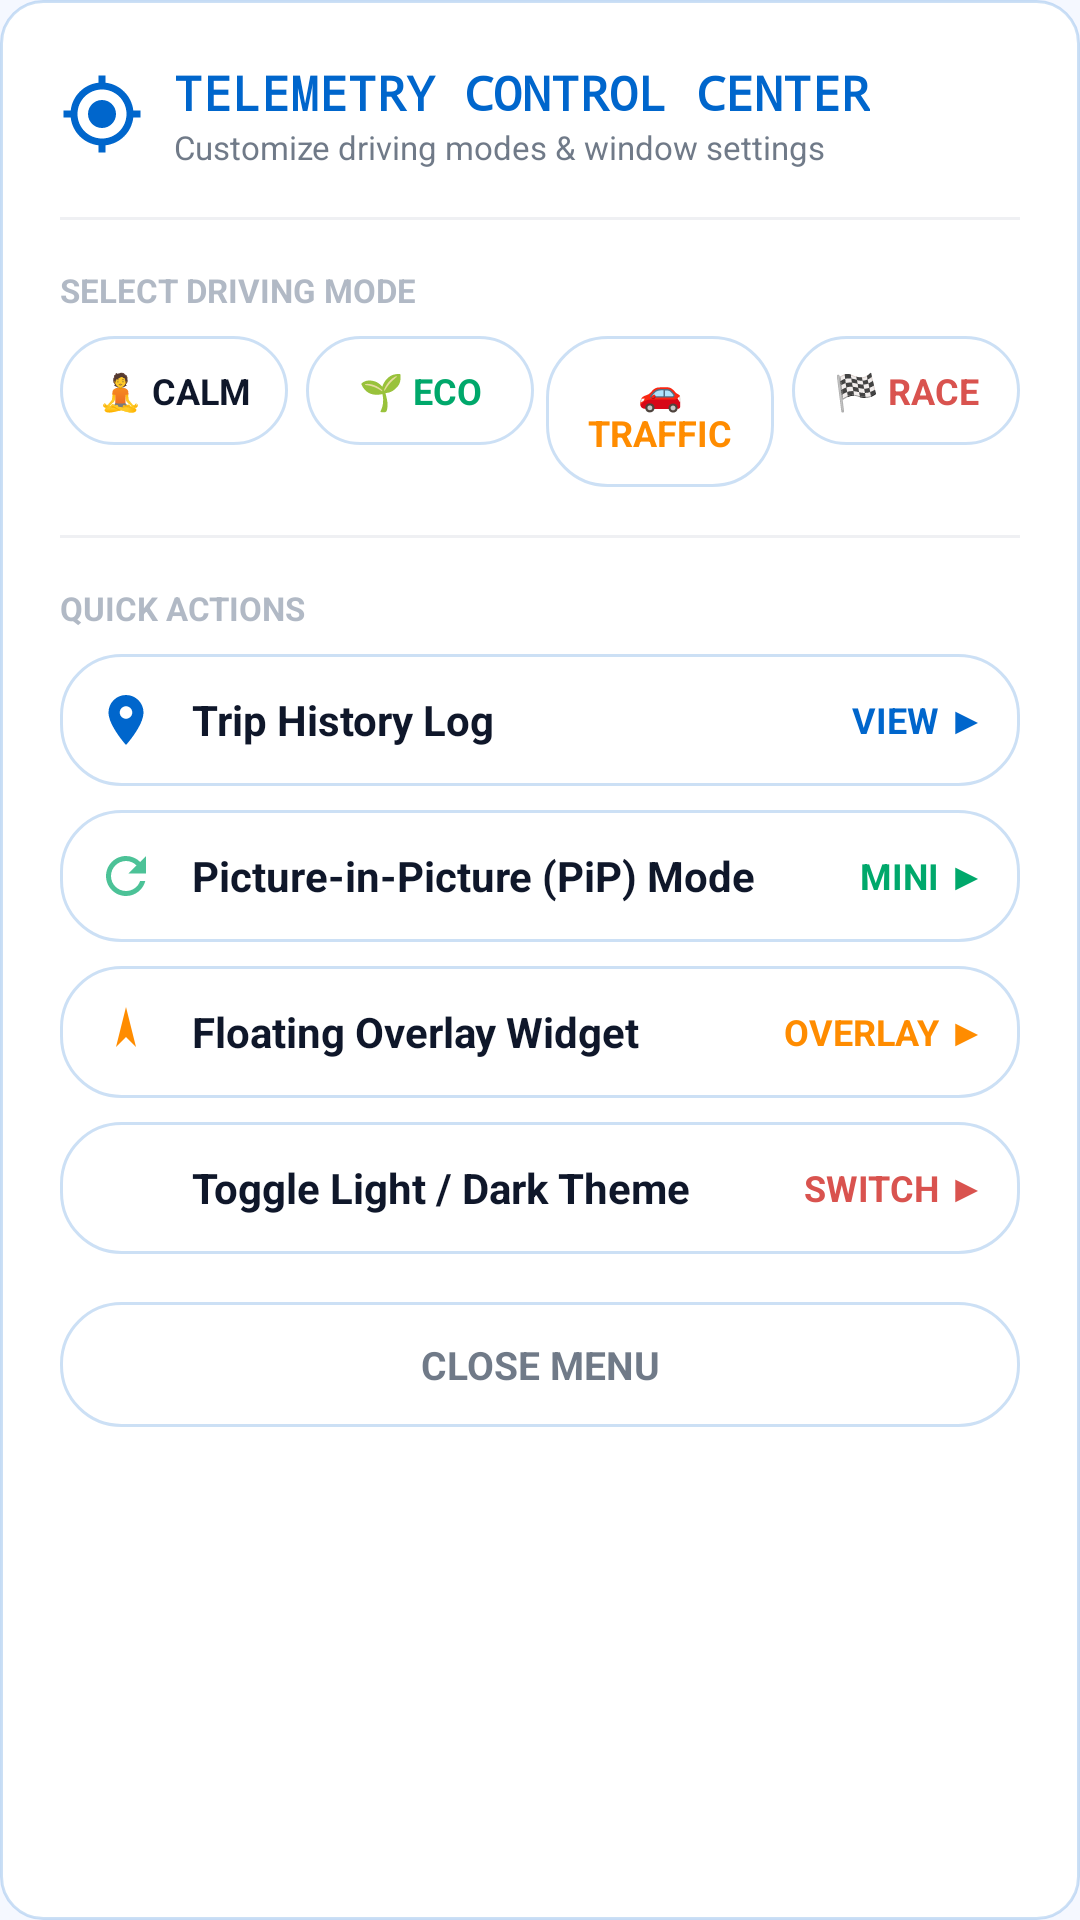

Named icons in this screenshot (1080px×1920px) and their bounding boxes, bbox(x1, y1, x2, y2):
refresh: bbox(106, 856, 146, 896)
